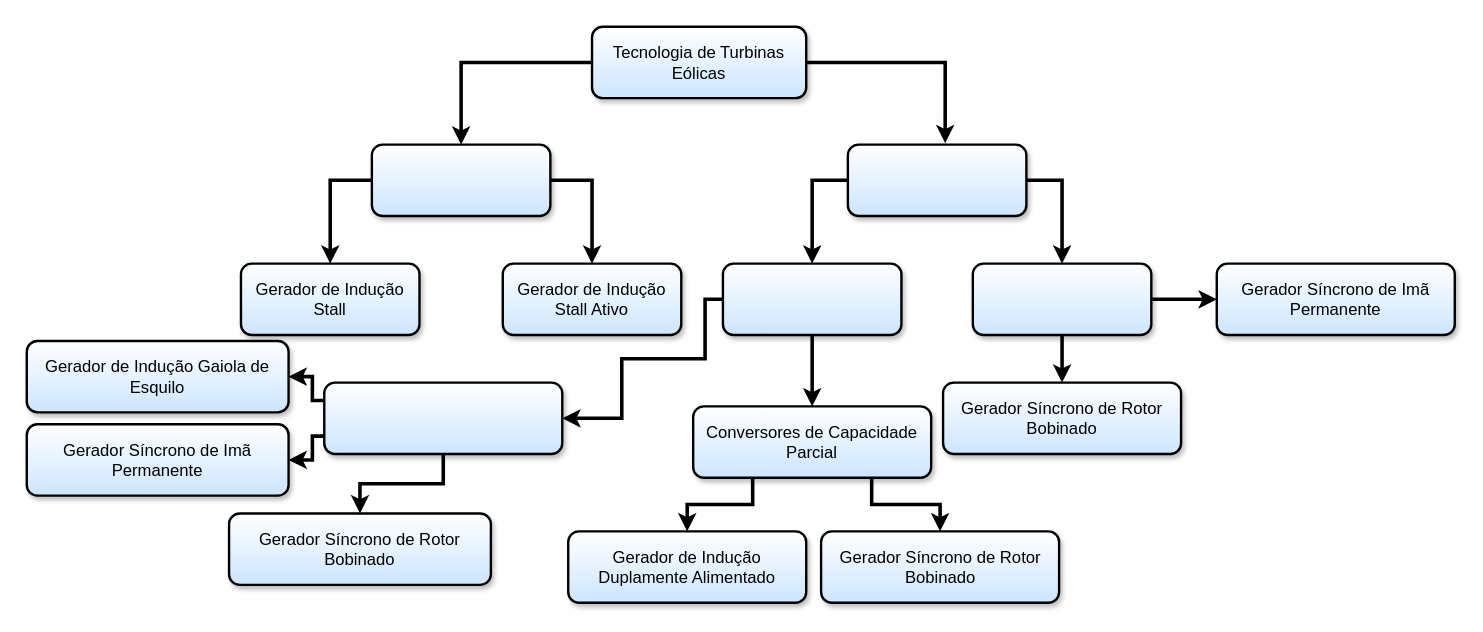
This 1483x632 diagram has some shape labels left out. Here are the shapes that lost their labels. From the top down, the centre of each, then its label:
the point at 461,181: Velocidade Fixa
the point at 937,181: Velocidade Variável
the point at 812,300: Acionamento Indireto (Com Engrenagem)
the point at 1062,300: Acionamento Direto (Sem Engrenagem)
the point at 444,419: Conversores de Capacidade Completa
